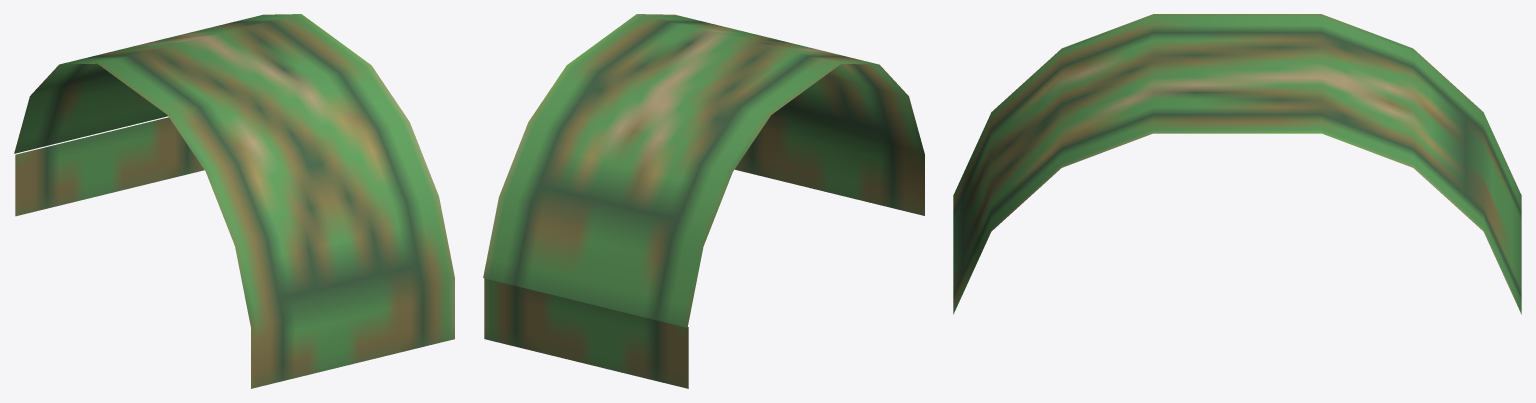
Rendered from arch-16x32x48.obj.
3 views of the same model, side by side, from view 1: azimuth 30°, elevation 25°; view 2: azimuth 150°, elevation 25°; view 3: azimuth 270°, elevation 25° (orthographic). The views are drawn at different scales.
Parts seen in each view (by area): view 1: Default; view 2: Default; view 3: Default.
Boxes of the visible parts, x1=… form: Default: x1=14, y1=14, x2=454, y2=388; Default: x1=483, y1=14, x2=924, y2=388; Default: x1=953, y1=14, x2=1521, y2=314.
Size of the model in its own units: 1 by 0.997 by 2.01.
